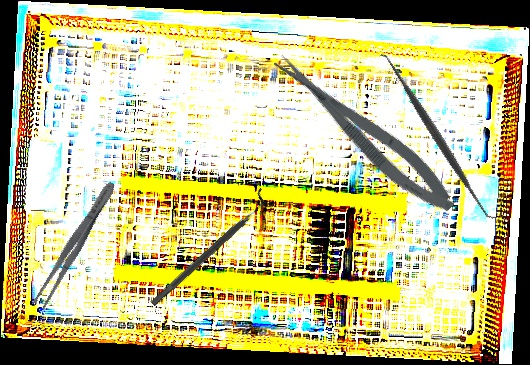Dressing Forceps: (30, 178, 121, 311)
Fixation Ring: (144, 187, 276, 313)
Micro Scissor: (267, 41, 463, 224)
Spatula Surgical: (375, 46, 501, 228)
